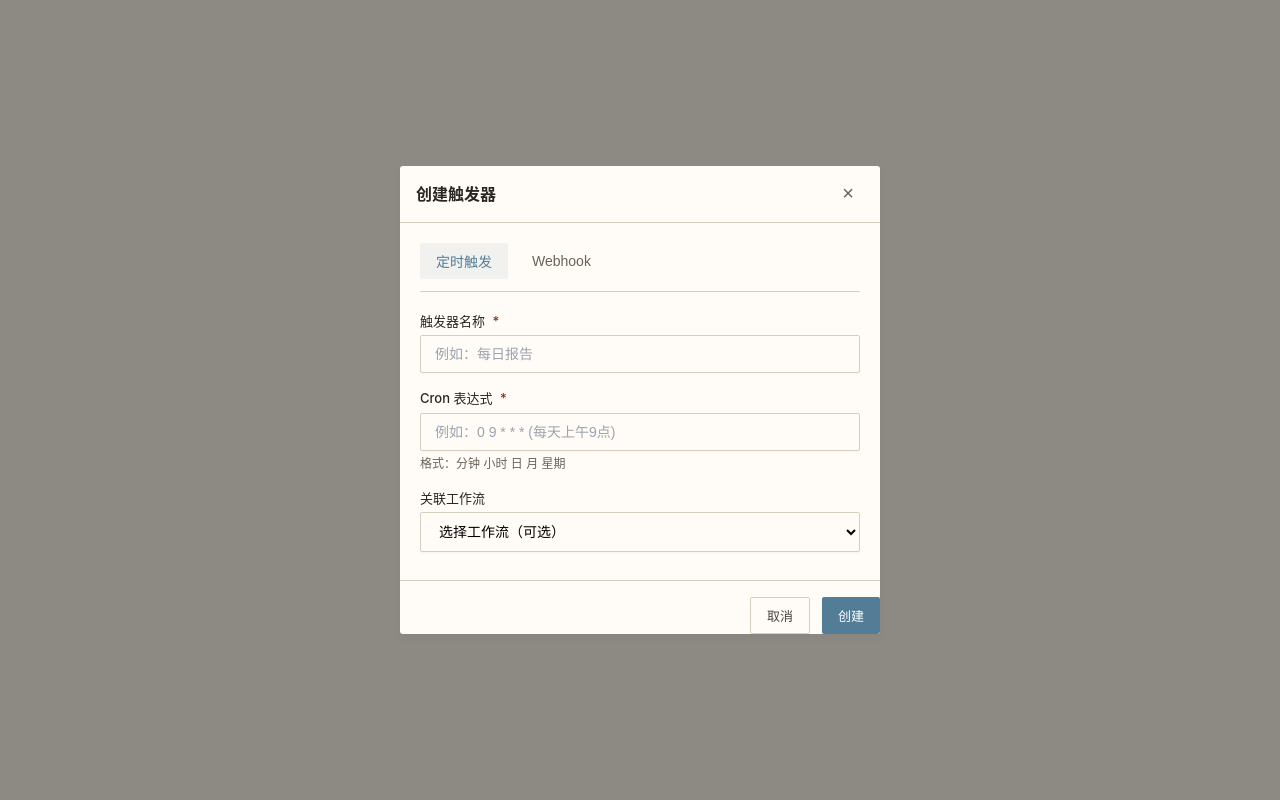
TriggerCreateDialog › switches to webhook form when webhook tab is clicked
Click the button with test id "tab-webhook" at x=561, y=261, box x1=516 y1=243 x2=607 y2=279
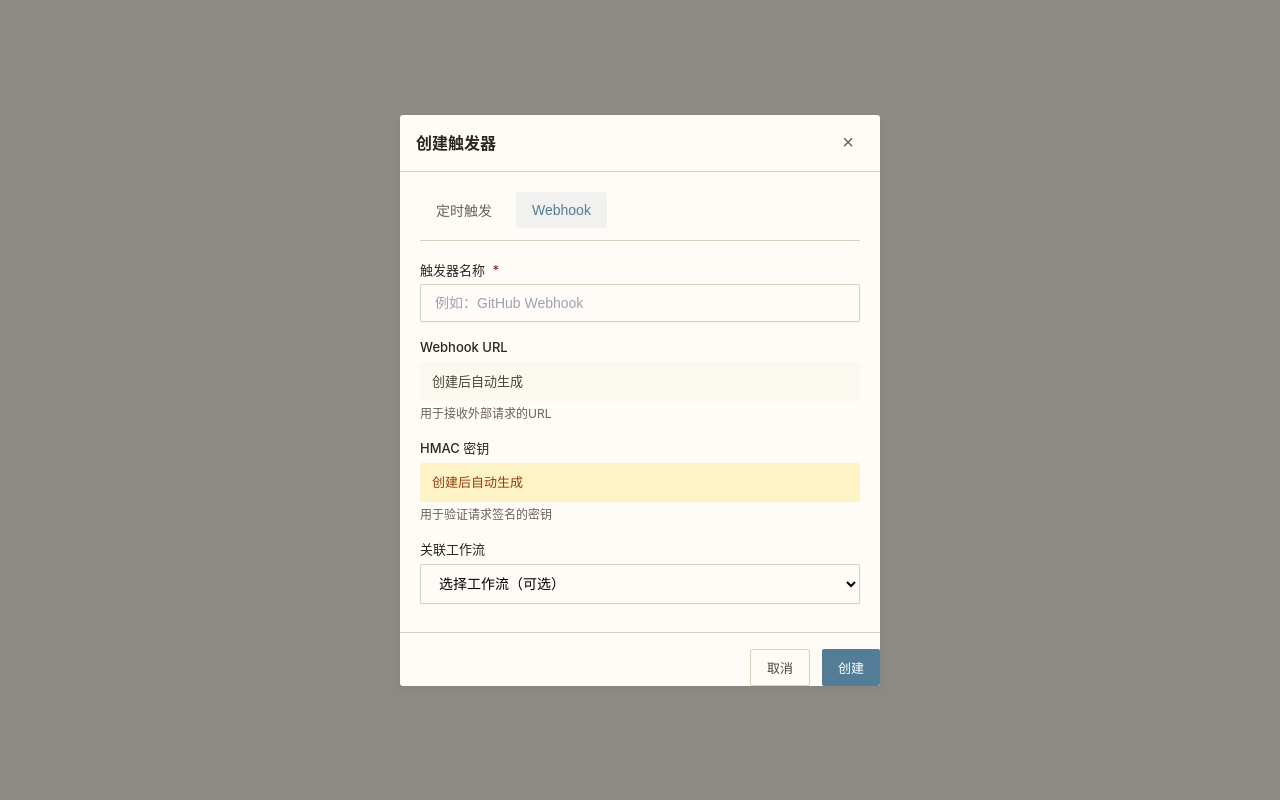
Expected: the field with test id "webhook-name-input" is shown, x1=420 y1=284 x2=860 y2=322
Expected: the text with test id "webhook-url-display" is shown, x1=420 y1=362 x2=860 y2=401
Expected: the text with test id "webhook-secret-display" is shown, x1=420 y1=462 x2=860 y2=502
